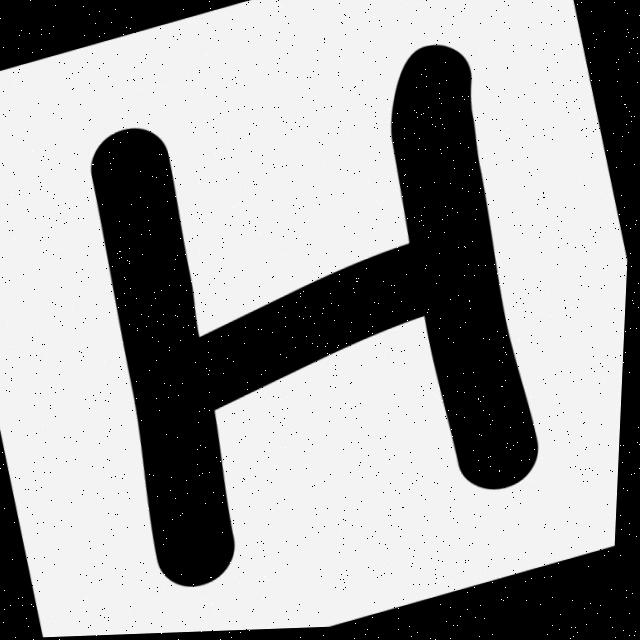H: (93, 48, 542, 587)
